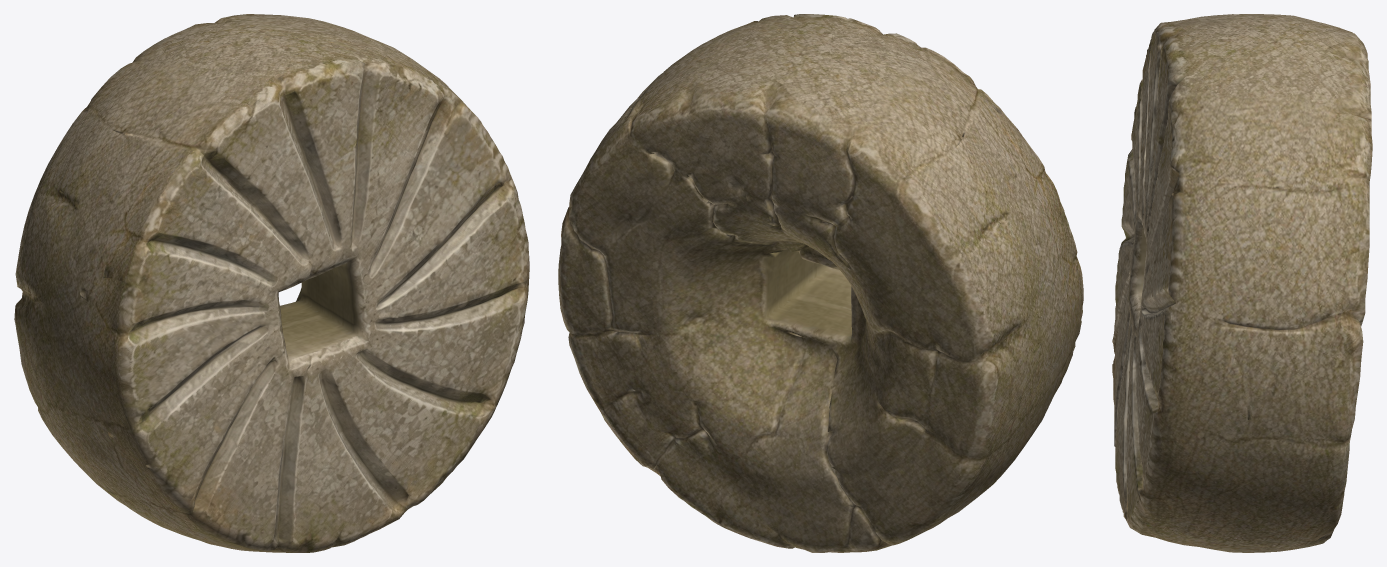
File: millstone.glb
3 views of the same model, side by side, from view 1: azimuth 30°, elevation 25°; view 2: azimuth 150°, elevation 25°; view 3: azimuth 270°, elevation 25° (orthographic).
Visible parts, largest first — view 1: tripo_node_289aec56-e7dd-407e-91d9-da513b0bfebb; view 2: tripo_node_289aec56-e7dd-407e-91d9-da513b0bfebb; view 3: tripo_node_289aec56-e7dd-407e-91d9-da513b0bfebb.
Part boxes in pixels (x1,y1,x2,y2): tripo_node_289aec56-e7dd-407e-91d9-da513b0bfebb: (14,14,529,552); tripo_node_289aec56-e7dd-407e-91d9-da513b0bfebb: (558,14,1083,552); tripo_node_289aec56-e7dd-407e-91d9-da513b0bfebb: (1112,14,1372,552).
Bounding box in the file's own units: 0.9406 × 0.9789 × 0.4732.
1 material, 1 textured.
